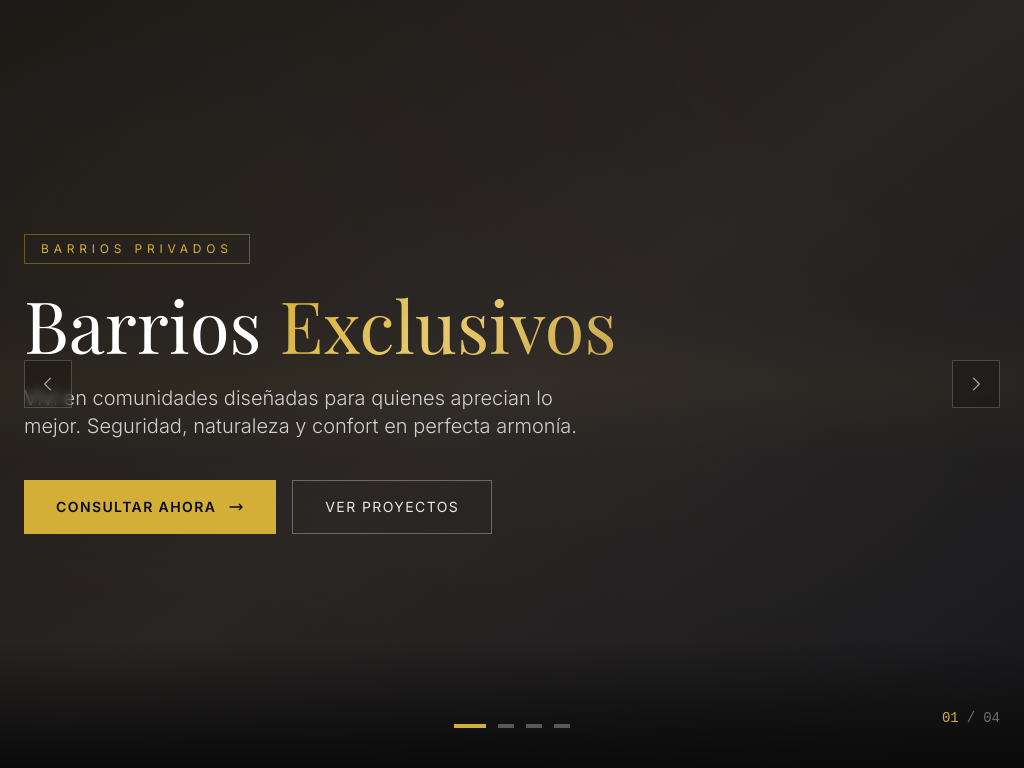
Test: HeroCarousel › avanza al siguiente slide con la flecha derecha
The image size is (1024, 768).
Click the button named "Siguiente": (976, 384) [952,360,1000,408]
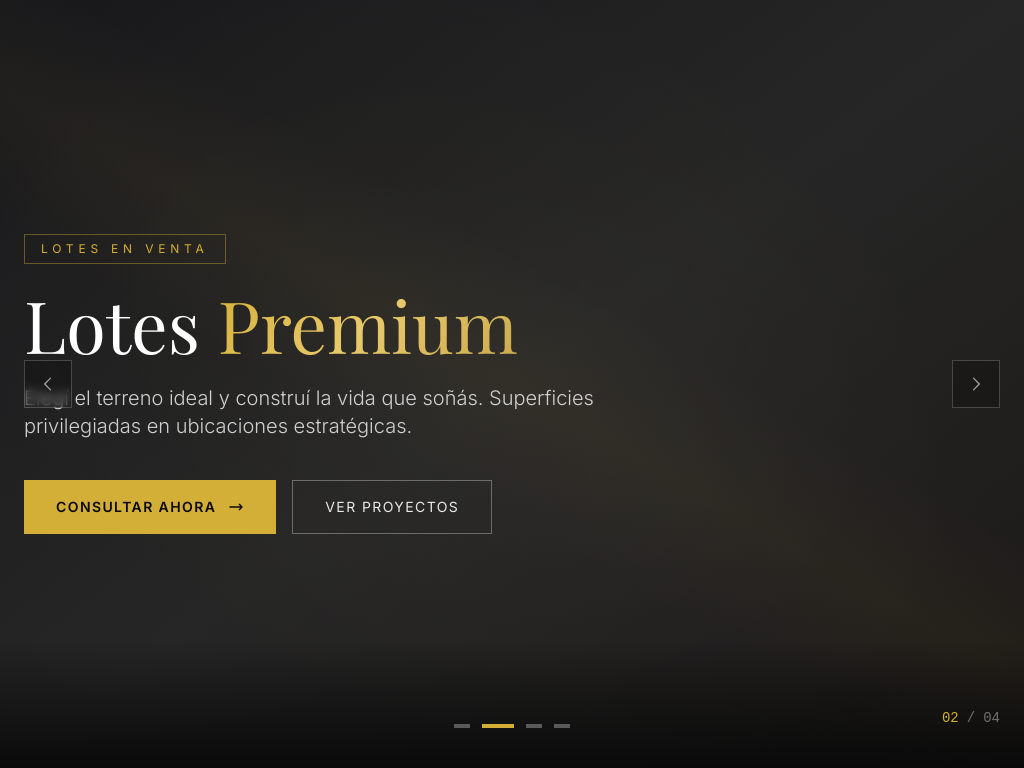
Check: the heading reads "Lotes Premium", box [24,276,518,372]
